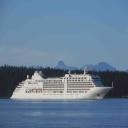cruises: (10, 64, 116, 103)
